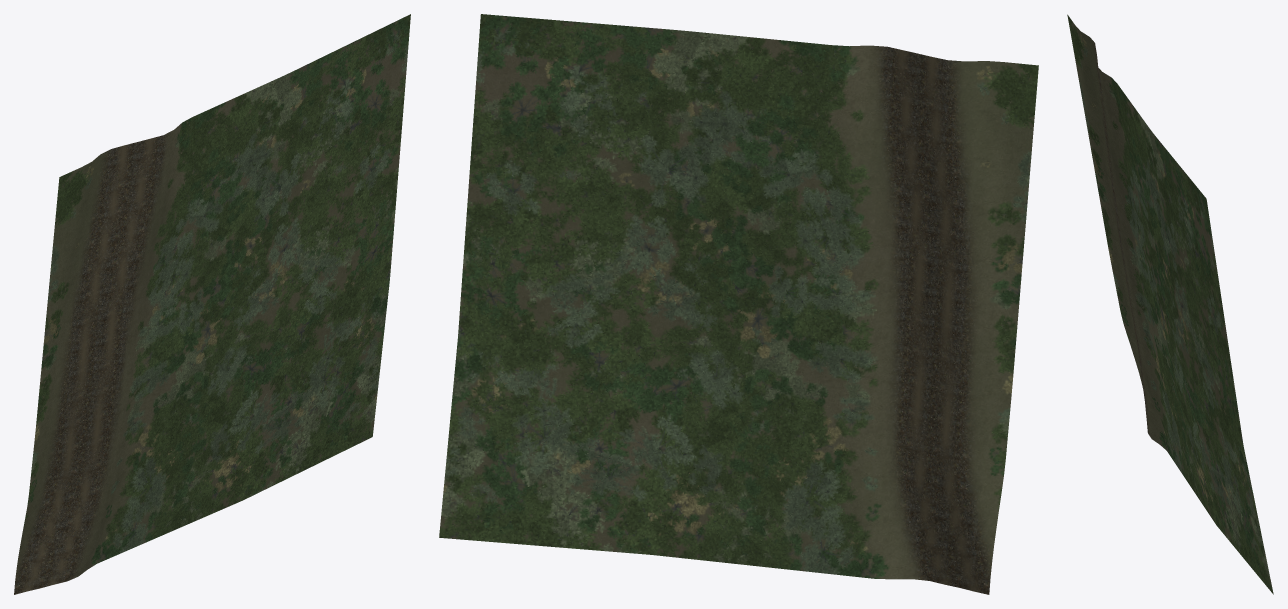
The model's file is terrain_core_05_02.obj.
3 renders of one model, left to right at view 1: azimuth 30°, elevation 25°; view 2: azimuth 150°, elevation 25°; view 3: azimuth 270°, elevation 25°, orthographic. The views are drawn at different scales.
Visible parts, largest first — view 1: terrain_core_05_02; view 2: terrain_core_05_02; view 3: terrain_core_05_02.
Part boxes in pixels (x1,y1,x2,y2): terrain_core_05_02: [14, 14, 410, 594]; terrain_core_05_02: [439, 14, 1038, 594]; terrain_core_05_02: [1067, 14, 1273, 594].
Size of the model in its own units: 32 by 32 by 15.12.
Materials: 1 (1 with a texture image).
